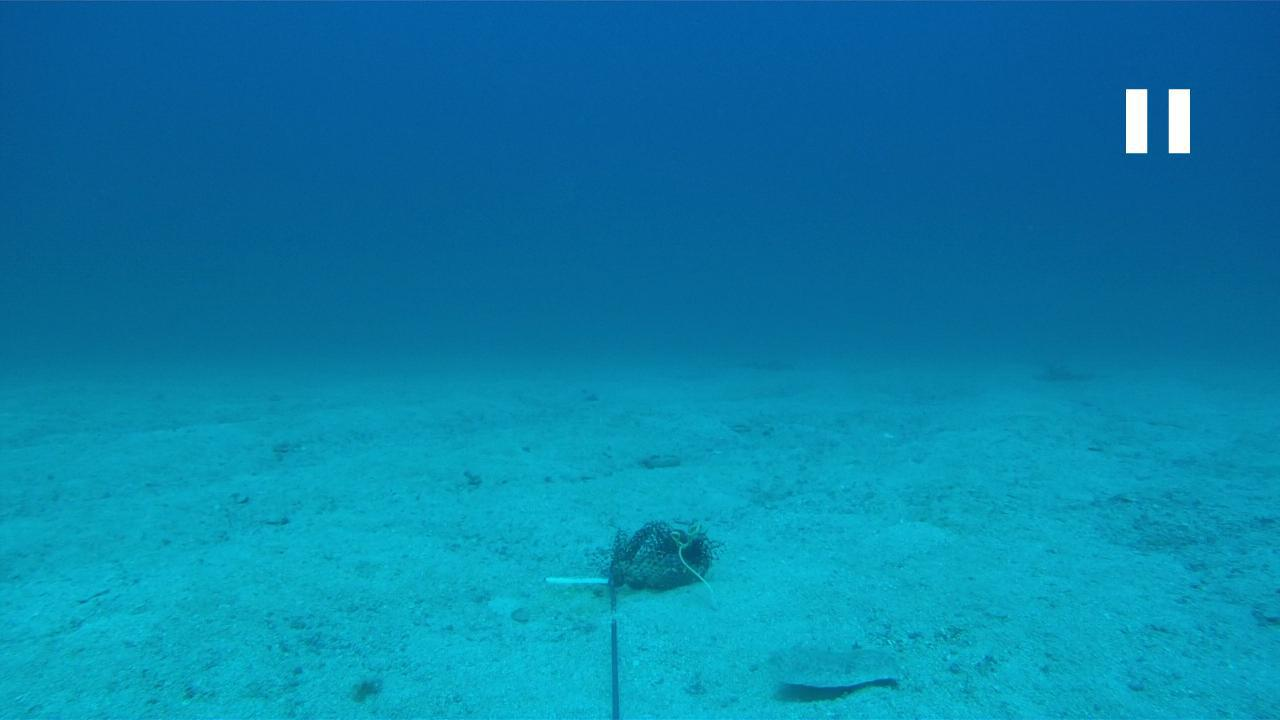bothus: (773, 638, 908, 699)
